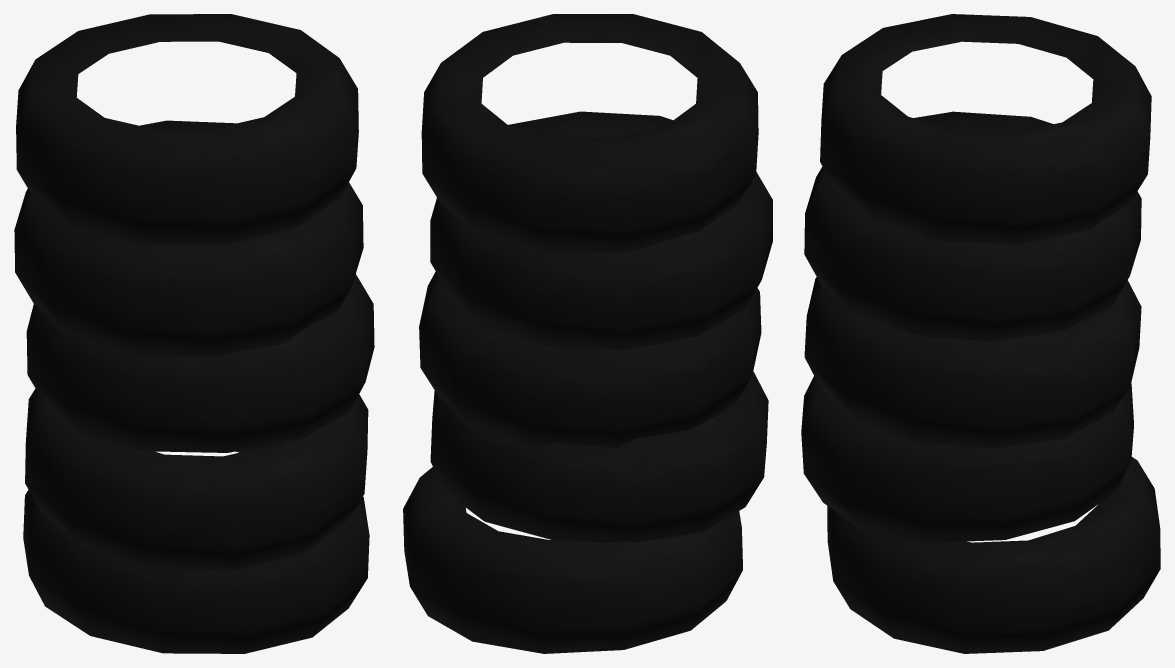
The model's file is tirePile_L0.glb.
3 renders of one model, left to right at view 1: azimuth 30°, elevation 25°; view 2: azimuth 150°, elevation 25°; view 3: azimuth 270°, elevation 25°, orthographic. The views are drawn at different scales.
Parts seen in each view (by area): view 1: tire4, tire1, tire3, tire2, tire0; view 2: tire4, tire0, tire3, tire2, tire1; view 3: tire4, tire0, tire2, tire3, tire1.
Part boxes in pixels (left/top/right/bottom): tire4: left=16, top=14, right=358, bottom=244; tire1: left=25, top=389, right=368, bottom=571; tire3: left=14, top=120, right=363, bottom=356; tire2: left=26, top=274, right=374, bottom=452; tire0: left=23, top=444, right=369, bottom=653; tire4: left=421, top=14, right=758, bottom=251; tire0: left=403, top=467, right=742, bottom=653; tire3: left=430, top=111, right=772, bottom=350; tire2: left=419, top=271, right=761, bottom=447; tire1: left=430, top=371, right=768, bottom=542; tire4: left=820, top=14, right=1151, bottom=243; tire0: left=827, top=457, right=1160, bottom=653; tire2: left=804, top=277, right=1141, bottom=448; tire3: left=804, top=111, right=1141, bottom=341; tire1: left=801, top=376, right=1133, bottom=542.
Size of the model in its own units: 0.6623 by 1.05 by 0.6686.
Materials: 1 (1 with a texture image).
